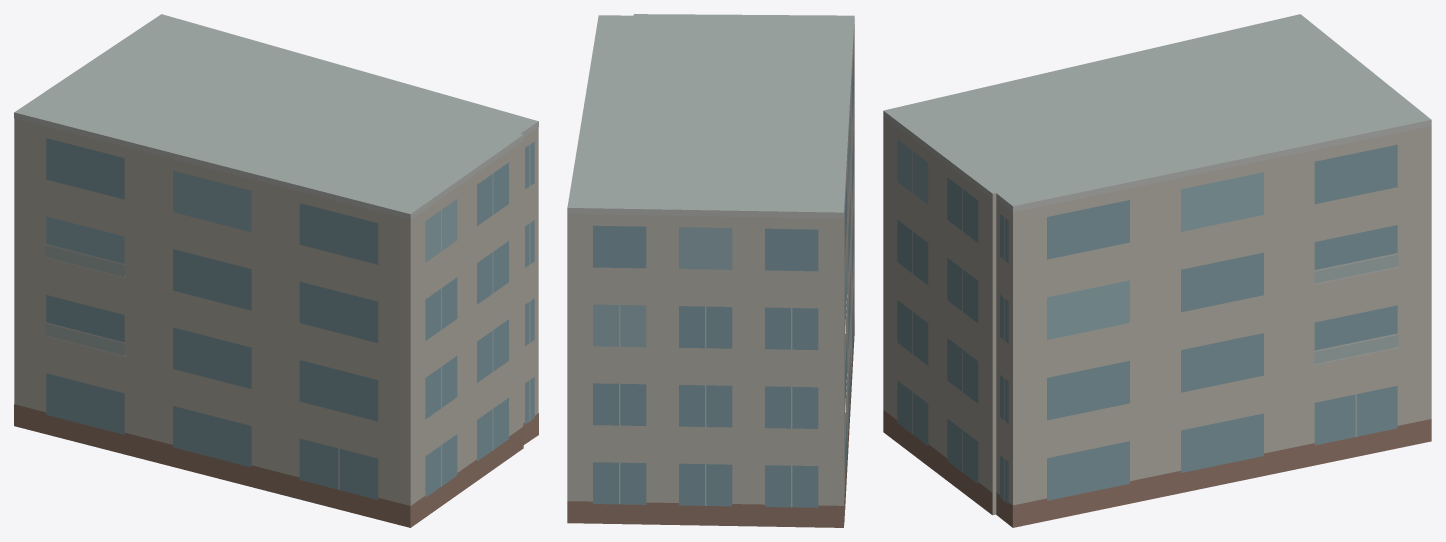
File: survey-upis-32671138.glb
3 views of the same model, side by side, from view 1: azimuth 30°, elevation 25°; view 2: azimuth 150°, elevation 25°; view 3: azimuth 270°, elevation 25° (orthographic). The views are drawn at different scales.
Parts seen in each view (by area): view 1: survey-upis-32671138.tmp; view 2: survey-upis-32671138.tmp; view 3: survey-upis-32671138.tmp.
Part boxes in pixels (x1,y1,x2,y2): survey-upis-32671138.tmp: (14,14,538,527); survey-upis-32671138.tmp: (567,14,854,527); survey-upis-32671138.tmp: (883,14,1431,527).
Bounding box in the file's own units: 16.55 × 12.9 × 19.94.
